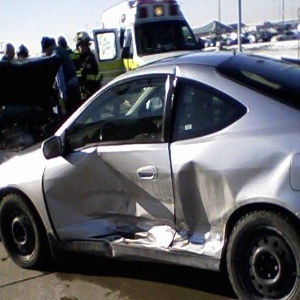door: (50, 158, 228, 260)
